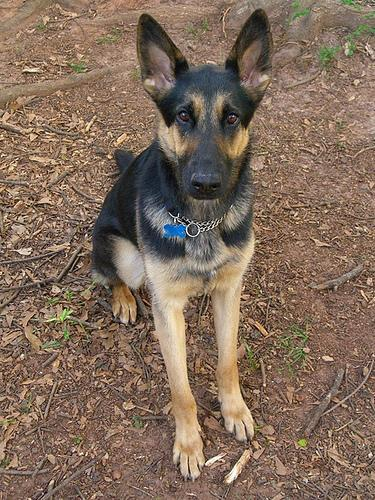German_shepherd: (91, 6, 273, 483)
